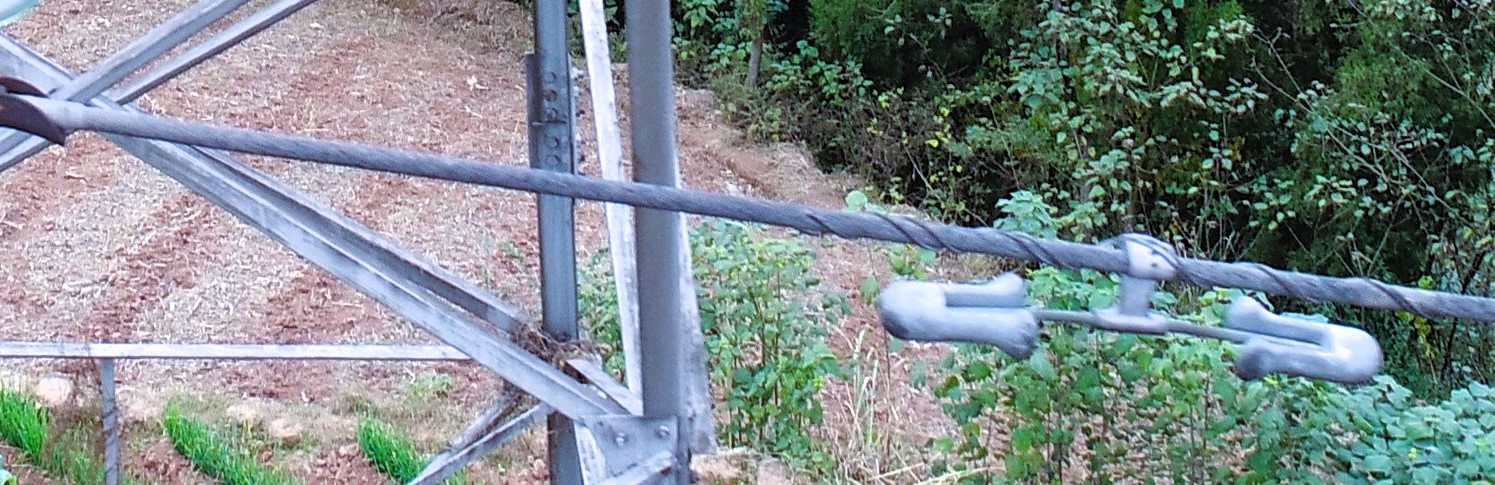Shockproof hammer: (854, 218, 1400, 392)
